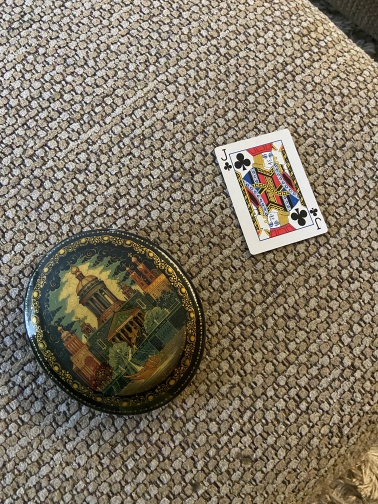jack: (213, 126, 329, 256)
